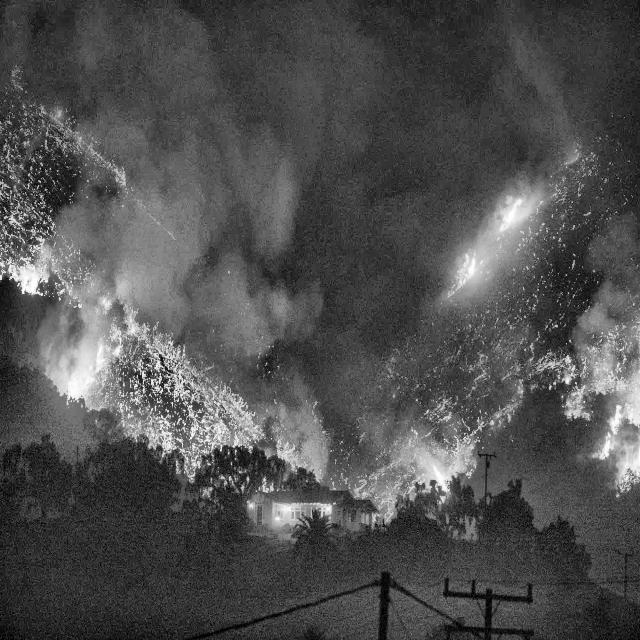fire: (8, 88, 282, 555), (412, 113, 636, 602)
